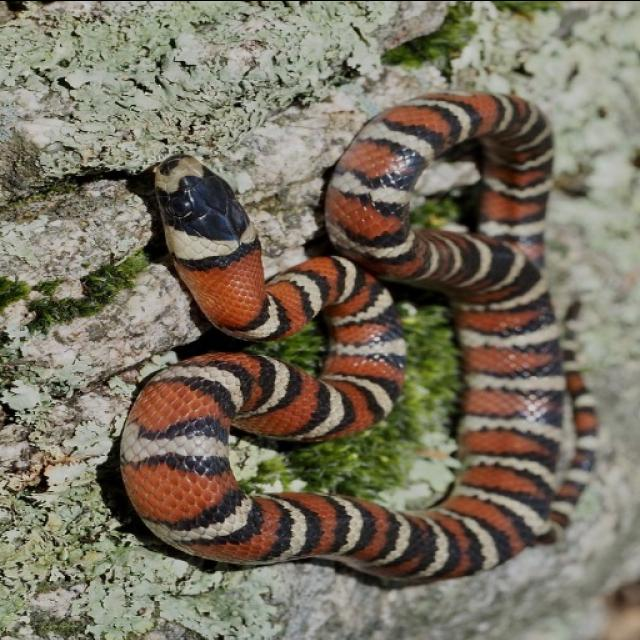snake: (79, 86, 612, 588)
